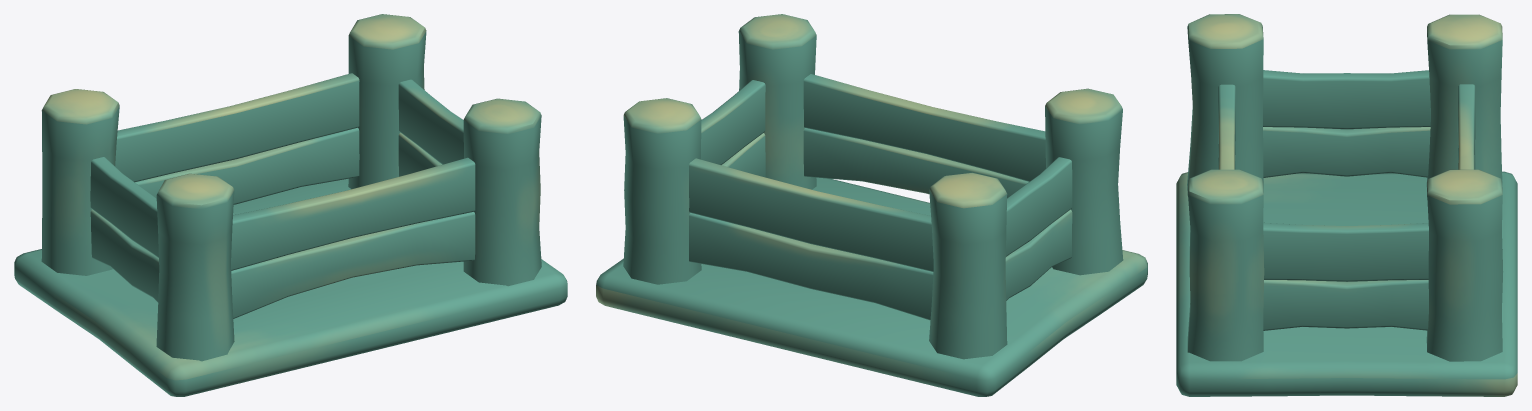
The picture shows the model from 3 angles, left to right: view 1: azimuth 30°, elevation 25°; view 2: azimuth 150°, elevation 25°; view 3: azimuth 270°, elevation 25°; orthographic projection. The views are drawn at different scales.
Visible parts, largest first — view 1: 立方体.014; view 2: 立方体.014; view 3: 立方体.014.
Part boxes in pixels (x1=…): 立方体.014: x1=14, y1=14, x2=567, y2=396; 立方体.014: x1=596, y1=14, x2=1147, y2=396; 立方体.014: x1=1176, y1=14, x2=1517, y2=396.
Bounding box in the file's own units: 49.11 × 22.03 × 34.98.
